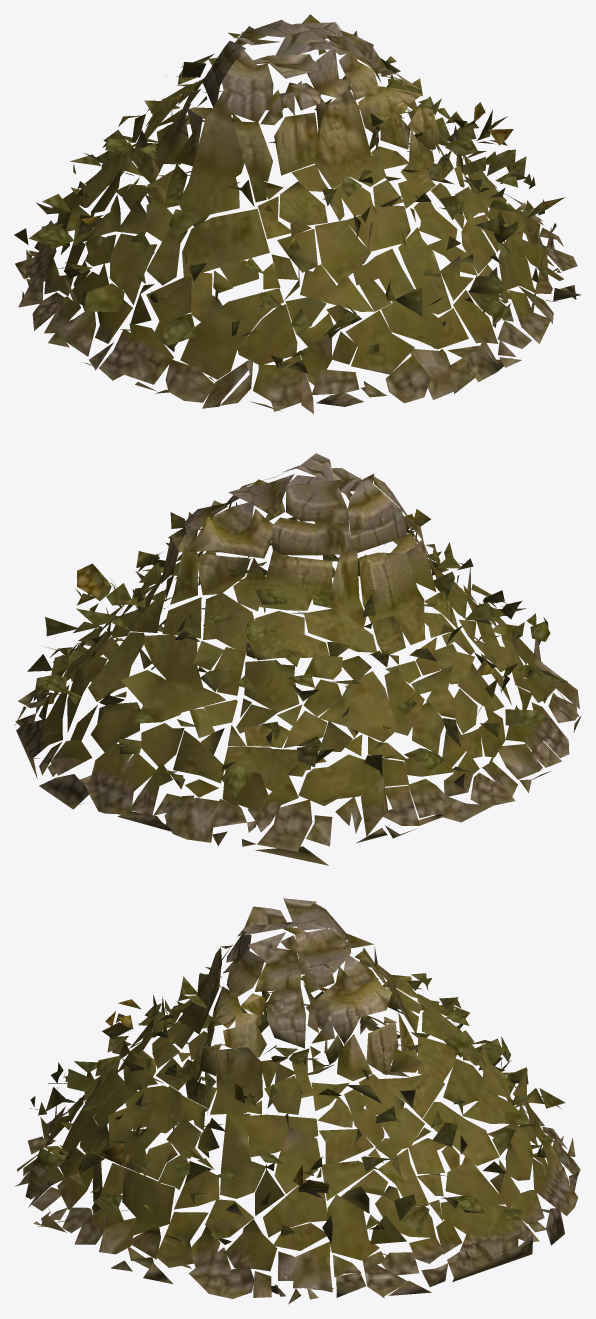
File: hill.glb
3 renders of one model, top to bottom at view 1: azimuth 30°, elevation 25°; view 2: azimuth 150°, elevation 25°; view 3: azimuth 270°, elevation 25°, orthographic. The views are drawn at different scales.
Visible parts, largest first — view 1: x-hill; view 2: x-hill; view 3: x-hill.
Boxes of the visible parts, x1=… form: x-hill: x1=14, y1=14, x2=581, y2=413; x-hill: x1=14, y1=453, x2=581, y2=865; x-hill: x1=14, y1=898, x2=580, y2=1304.
Bounding box in the file's own units: 0.694 × 0.3662 × 0.6853.
1 material, 1 textured.
